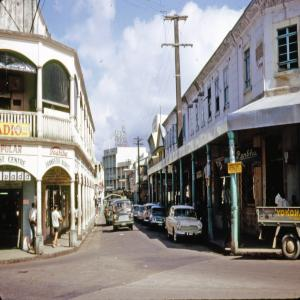Vehicle-registration-plate: (186, 233, 194, 237), (159, 223, 165, 228), (122, 223, 128, 227)
